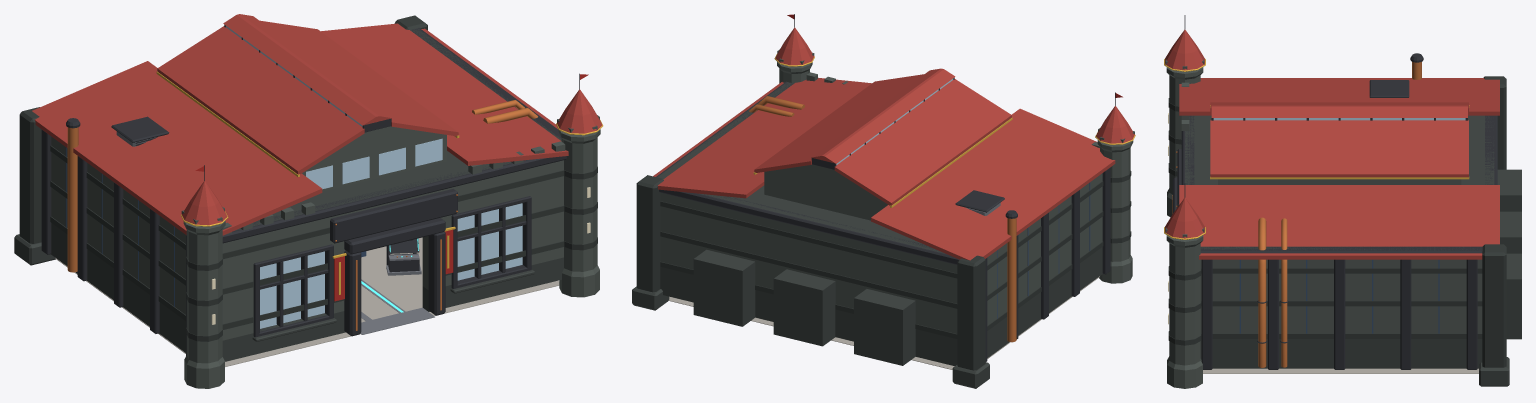
File: MachineWorkshop_Building_Roblox.fbx
The picture shows the model from 3 angles, left to right: view 1: azimuth 30°, elevation 25°; view 2: azimuth 150°, elevation 25°; view 3: azimuth 270°, elevation 25°; orthographic projection. The views are drawn at different scales.
Parts seen in each view (by area): view 1: RoofRed, CastleWallStone, CharcoalSteel, CastleBaseStone, DarkStoneBand, WindowGlass, ConcreteFloor, Copper, LightSteel, GoldDetail, BannerRed; view 2: RoofRed, CastleWallStone, CastleBaseStone, DarkStoneBand, CharcoalSteel, Copper, ConcreteFloor, GoldDetail; view 3: RoofRed, CastleWallStone, CastleBaseStone, CharcoalSteel, DarkStoneBand, Copper, ConcreteFloor, GoldDetail, WindowGlass, DarkBluePanel.
Boxes of the visible parts, x1,y1,x2,y2 form: RoofRed: (32, 14, 602, 235); CastleWallStone: (51, 115, 600, 388); CharcoalSteel: (41, 24, 579, 355); CastleBaseStone: (14, 28, 563, 361); DarkStoneBand: (19, 15, 597, 341); WindowGlass: (226, 26, 522, 328); ConcreteFloor: (55, 237, 559, 366); Copper: (67, 100, 537, 330); LightSteel: (116, 131, 434, 334); GoldDetail: (156, 71, 603, 294); BannerRed: (195, 74, 588, 301); RoofRed: (653, 27, 1134, 260); CastleWallStone: (660, 49, 1134, 333); CastleBaseStone: (632, 82, 1102, 388); DarkStoneBand: (636, 171, 1131, 370); CharcoalSteel: (656, 14, 1115, 361); Copper: (749, 96, 1016, 342); ConcreteFloor: (668, 276, 1099, 369); GoldDetail: (753, 54, 1135, 207); RoofRed: (1165, 29, 1499, 259); CastleWallStone: (1165, 59, 1482, 388); CastleBaseStone: (1185, 115, 1521, 386); CharcoalSteel: (1173, 15, 1497, 369); DarkStoneBand: (1168, 76, 1506, 367); Copper: (1172, 62, 1421, 367); ConcreteFloor: (1203, 368, 1478, 373); GoldDetail: (1164, 59, 1469, 239); WindowGlass: (1213, 118, 1465, 120); DarkBluePanel: (1239, 259, 1439, 333).
Size of the model in its own units: 3999 by 2100 by 3240.
